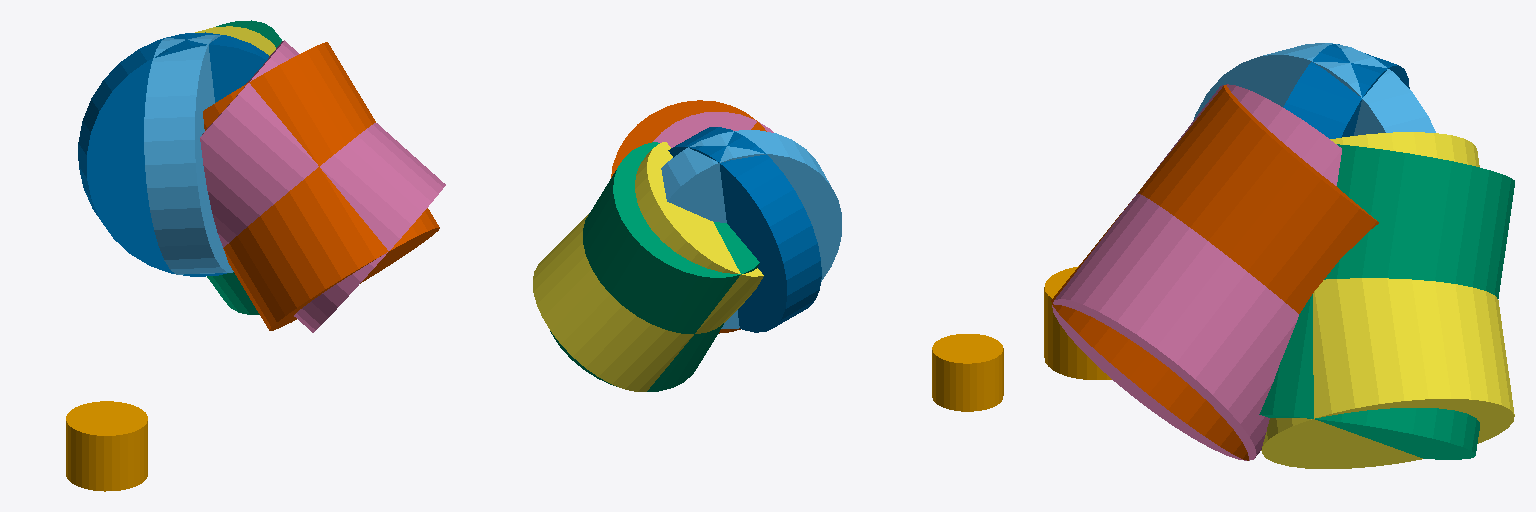
robot.urdf — pepe:
<?xml version="1.0"?><robot name="pepe">
	<link name="0">
		<visual>
			<geometry>
				<cylinder length="0.29530951717184273" radius="0.19870015092907156"/>
			</geometry>
		</visual>
		<collision>
			<geometry>
				<cylinder length="0.29530951717184273" radius="0.19870015092907156"/>
			</geometry>
		</collision>
		<inertial>
			<mass value="0.03662888596785679"/>
			<inertia ixx="0.03" iyy="0.03" izz="0.03" ixy="0" ixz="0" iyx="0"/>
		</inertial>
	</link>
	<link name="11">
		<visual>
			<geometry>
				<cylinder length="0.2532065960551713" radius="0.5765985436187973"/>
			</geometry>
		</visual>
		<collision>
			<geometry>
				<cylinder length="0.2532065960551713" radius="0.5765985436187973"/>
			</geometry>
		</collision>
		<inertial>
			<mass value="0.26446729291381127"/>
			<inertia ixx="0.03" iyy="0.03" izz="0.03" ixy="0" ixz="0" iyx="0"/>
		</inertial>
	</link>
	<link name="22">
		<visual>
			<geometry>
				<cylinder length="1.0458677605157447" radius="0.48221080257613835"/>
			</geometry>
		</visual>
		<collision>
			<geometry>
				<cylinder length="1.0458677605157447" radius="0.48221080257613835"/>
			</geometry>
		</collision>
		<inertial>
			<mass value="0.7640125967359604"/>
			<inertia ixx="0.03" iyy="0.03" izz="0.03" ixy="0" ixz="0" iyx="0"/>
		</inertial>
	</link>
	<link name="23">
		<visual>
			<geometry>
				<cylinder length="1.0458677605157447" radius="0.48221080257613835"/>
			</geometry>
		</visual>
		<collision>
			<geometry>
				<cylinder length="1.0458677605157447" radius="0.48221080257613835"/>
			</geometry>
		</collision>
		<inertial>
			<mass value="0.7640125967359604"/>
			<inertia ixx="0.03" iyy="0.03" izz="0.03" ixy="0" ixz="0" iyx="0"/>
		</inertial>
	</link>
	<link name="14">
		<visual>
			<geometry>
				<cylinder length="0.2532065960551713" radius="0.5765985436187973"/>
			</geometry>
		</visual>
		<collision>
			<geometry>
				<cylinder length="0.2532065960551713" radius="0.5765985436187973"/>
			</geometry>
		</collision>
		<inertial>
			<mass value="0.26446729291381127"/>
			<inertia ixx="0.03" iyy="0.03" izz="0.03" ixy="0" ixz="0" iyx="0"/>
		</inertial>
	</link>
	<link name="25">
		<visual>
			<geometry>
				<cylinder length="1.0458677605157447" radius="0.48221080257613835"/>
			</geometry>
		</visual>
		<collision>
			<geometry>
				<cylinder length="1.0458677605157447" radius="0.48221080257613835"/>
			</geometry>
		</collision>
		<inertial>
			<mass value="0.7640125967359604"/>
			<inertia ixx="0.03" iyy="0.03" izz="0.03" ixy="0" ixz="0" iyx="0"/>
		</inertial>
	</link>
	<link name="26">
		<visual>
			<geometry>
				<cylinder length="1.0458677605157447" radius="0.48221080257613835"/>
			</geometry>
		</visual>
		<collision>
			<geometry>
				<cylinder length="1.0458677605157447" radius="0.48221080257613835"/>
			</geometry>
		</collision>
		<inertial>
			<mass value="0.7640125967359604"/>
			<inertia ixx="0.03" iyy="0.03" izz="0.03" ixy="0" ixz="0" iyx="0"/>
		</inertial>
	</link>
	<joint name="11_to_0" type="revolute">
		<parent link="0"/>
		<child link="11"/>
		<axis xyz="1 0 0"/>
		<limit effort="1" upper="-3.1415" lower="3.1415" velocity="1"/>
		<origin rpy="2.346661014776726 1.781064725250609 1.5965217213472793" xyz="0.9999 0.8346274683241105 0.9807371605957307"/>
	</joint>
	<joint name="22_to_11" type="revolute">
		<parent link="11"/>
		<child link="22"/>
		<axis xyz="1 0 0"/>
		<limit effort="1" upper="-3.1415" lower="3.1415" velocity="1"/>
		<origin rpy="0.6205493639575665 5.1512966192912 2.8832054081695433" xyz="0.1957885854865911 0.4421603294737 0.1263421961644826"/>
	</joint>
	<joint name="23_to_11" type="revolute">
		<parent link="11"/>
		<child link="23"/>
		<axis xyz="1 0 0"/>
		<limit effort="1" upper="-3.1415" lower="3.1415" velocity="1"/>
		<origin rpy="0.9308240459363498 5.1512966192912 2.8832054081695433" xyz="0.1957885854865911 0.4421603294737 0.1263421961644826"/>
	</joint>
	<joint name="14_to_0" type="revolute">
		<parent link="0"/>
		<child link="14"/>
		<axis xyz="1 0 0"/>
		<limit effort="1" upper="-3.1415" lower="3.1415" velocity="1"/>
		<origin rpy="3.519991522165089 1.781064725250609 1.5965217213472793" xyz="0.9999 0.8346274683241105 0.9807371605957307"/>
	</joint>
	<joint name="25_to_14" type="revolute">
		<parent link="14"/>
		<child link="25"/>
		<axis xyz="1 0 0"/>
		<limit effort="1" upper="-3.1415" lower="3.1415" velocity="1"/>
		<origin rpy="0.6205493639575665 5.1512966192912 2.8832054081695433" xyz="0.1957885854865911 0.4421603294737 0.1263421961644826"/>
	</joint>
	<joint name="26_to_14" type="revolute">
		<parent link="14"/>
		<child link="26"/>
		<axis xyz="1 0 0"/>
		<limit effort="1" upper="-3.1415" lower="3.1415" velocity="1"/>
		<origin rpy="0.9308240459363498 5.1512966192912 2.8832054081695433" xyz="0.1957885854865911 0.4421603294737 0.1263421961644826"/>
	</joint>
</robot>

--- Render facts (derived) ---
The picture shows the robot from 3 angles, left to right: view 1: azimuth 30°, elevation 25°; view 2: azimuth 150°, elevation 25°; view 3: azimuth 270°, elevation 25°; orthographic projection.
Robot: pepe — 7 links, 6 joints (6 revolute); root link 0; default pose: every joint at zero.
Visible links, largest first — view 1: 25, 26, 14, 11, 0, 22, 23; view 2: 23, 22, 14, 11, 0, 25, 26; view 3: 26, 23, 25, 22, 11, 14, 0.
Boxes of the visible links, x1,y1,x2,y2 form: 25: [203, 42, 439, 330]; 26: [200, 40, 445, 332]; 14: [78, 32, 268, 276]; 11: [144, 35, 233, 274]; 0: [66, 401, 147, 491]; 22: [207, 20, 281, 314]; 23: [195, 26, 275, 55]; 23: [533, 142, 763, 391]; 22: [550, 142, 759, 391]; 14: [668, 127, 821, 332]; 11: [661, 130, 841, 328]; 0: [932, 334, 1003, 411]; 25: [611, 100, 766, 333]; 26: [653, 112, 773, 147]; 26: [1052, 84, 1341, 460]; 23: [1261, 132, 1514, 468]; 25: [1051, 85, 1378, 460]; 22: [1259, 144, 1514, 459]; 11: [1193, 43, 1435, 135]; 14: [1283, 44, 1409, 138]; 0: [1044, 266, 1111, 379].
Size in the robot's own frame: 2.3 by 1.78 by 1.72 metres.
Geometry: primitives only (box / cylinder / sphere), no mesh files.
